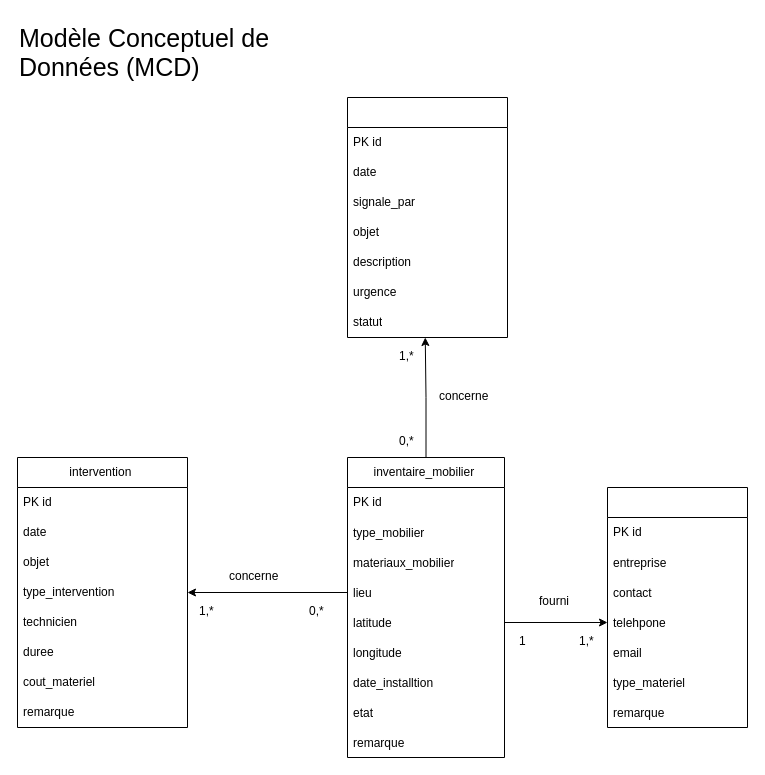
Some shapes in this 765 by 775 pixel diagram are drawn without their labels. Each missing label, with the box of its shape:
fournisseur_contact: (606, 486, 748, 728)
signalement: (346, 96, 508, 338)
